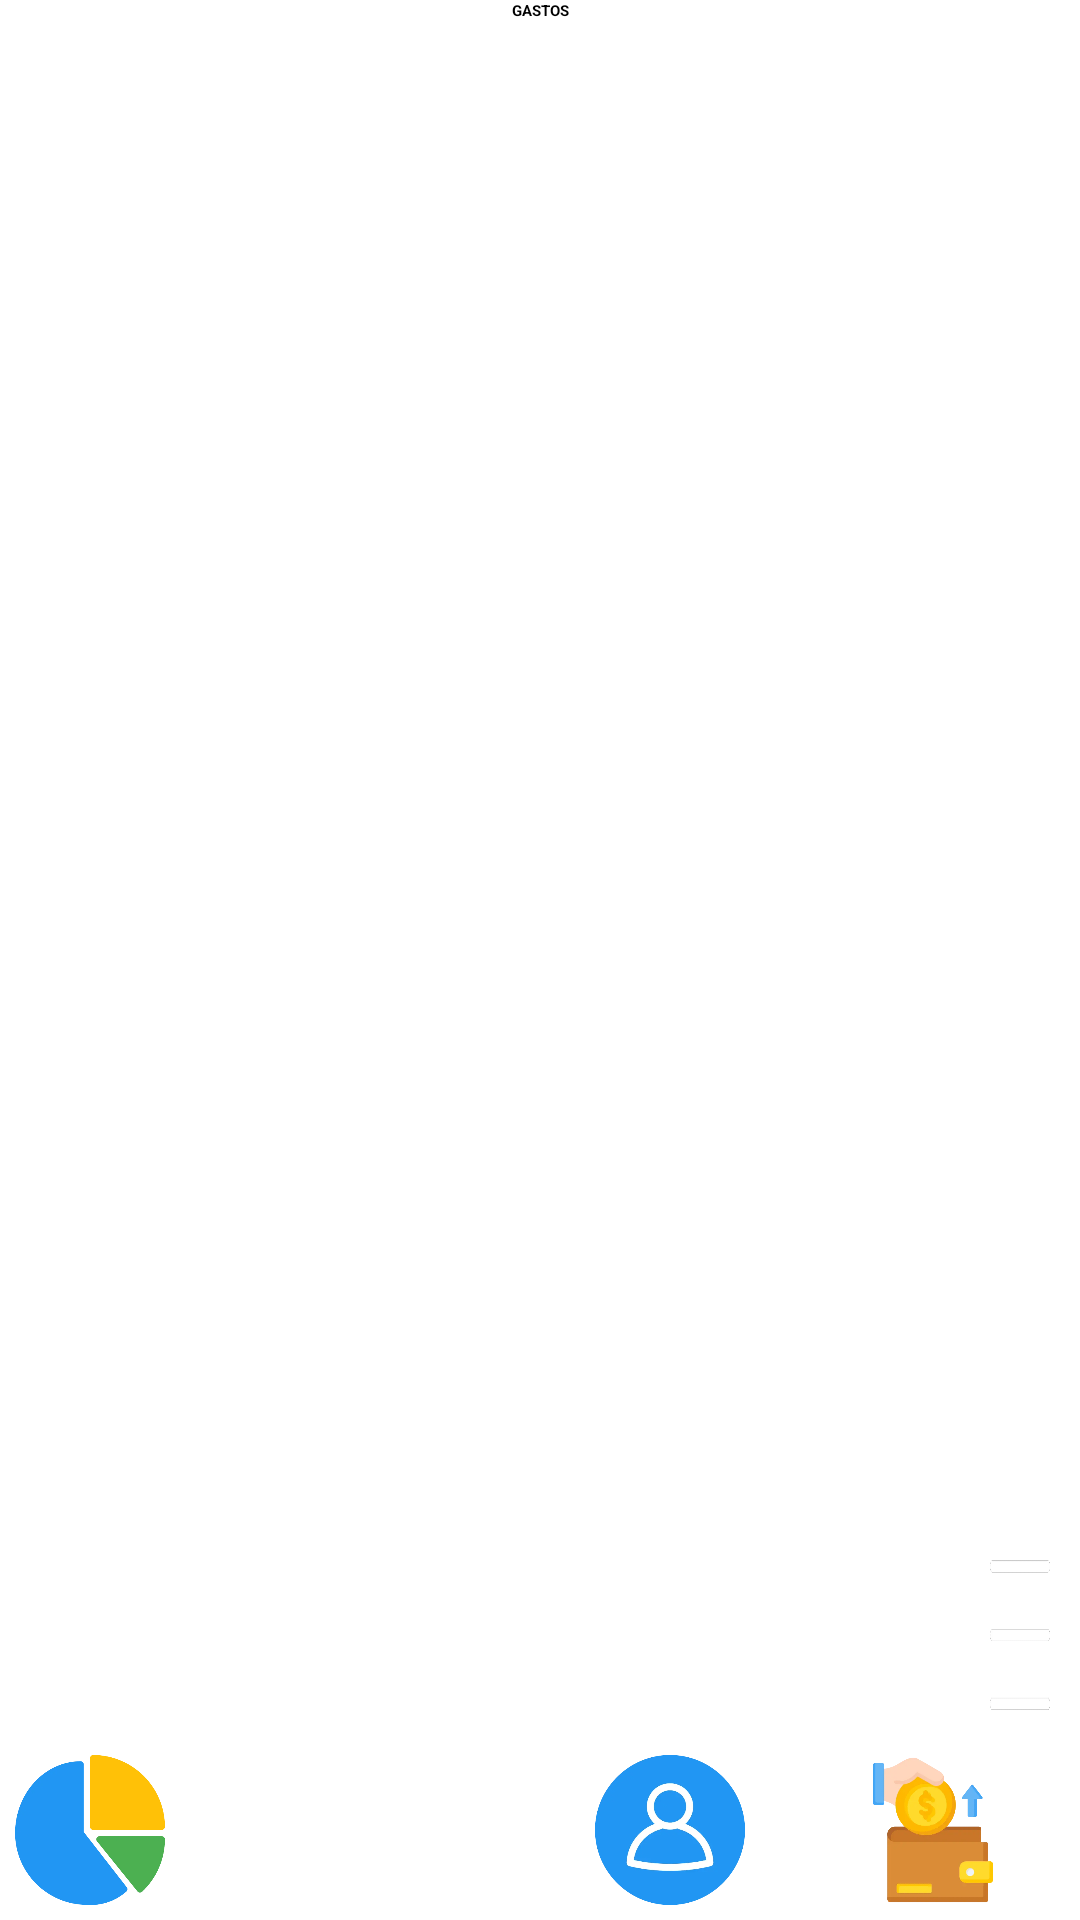

Icons on this 1080px x 1920px Android screen, each with the point to tap as (x,y):
spent: (933,1830)
statistics: (90,1830)
user: (670,1830)
